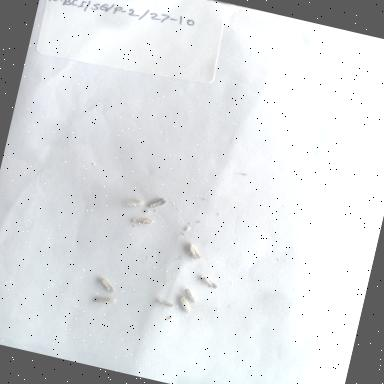pbw: (90, 273, 127, 298), (142, 192, 176, 216), (126, 212, 160, 234), (170, 293, 196, 318), (152, 294, 178, 314), (184, 241, 208, 262), (90, 292, 116, 310), (198, 274, 222, 292), (182, 287, 203, 307), (124, 196, 144, 211)
